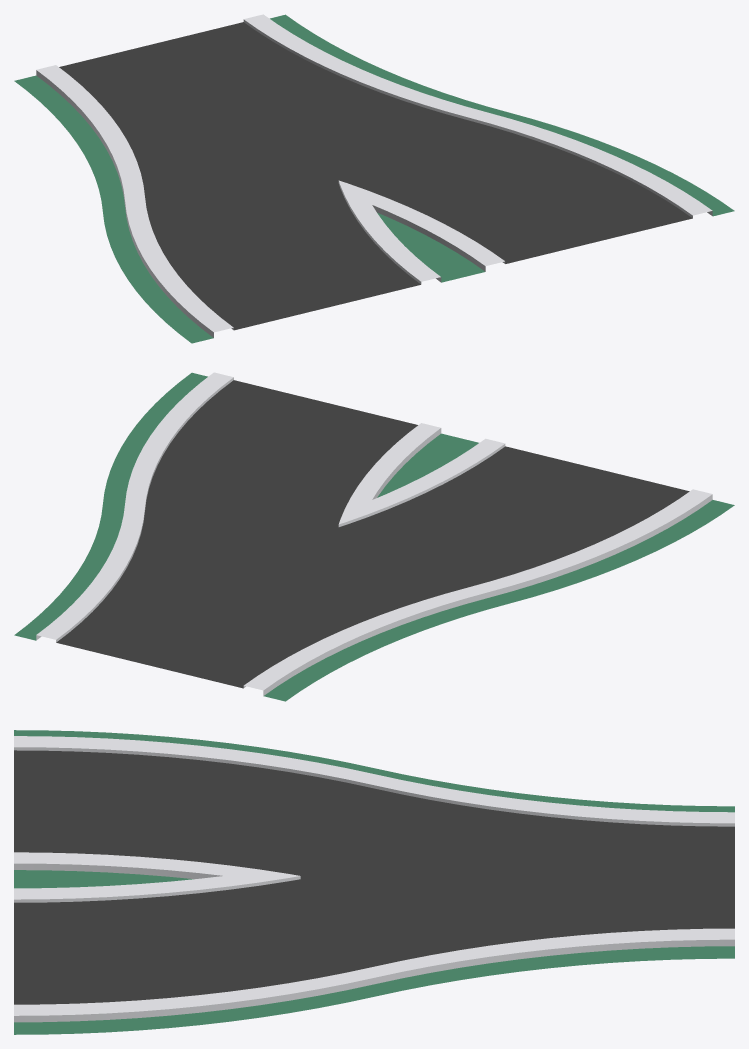
File: roadCurvedSplit.obj
The picture shows the model from 3 angles, top to bottom: view 1: azimuth 30°, elevation 25°; view 2: azimuth 150°, elevation 25°; view 3: azimuth 270°, elevation 25°; orthographic projection. The views are drawn at different scales.
Visible parts, largest first — view 1: roadCurvedSplit; view 2: roadCurvedSplit; view 3: roadCurvedSplit.
Boxes of the visible parts, x1=… form: roadCurvedSplit: x1=14, y1=14, x2=734, y2=343; roadCurvedSplit: x1=14, y1=372, x2=734, y2=701; roadCurvedSplit: x1=14, y1=730, x2=734, y2=1034.
Bounding box in the file's own units: 2 × 0.02 × 2.
